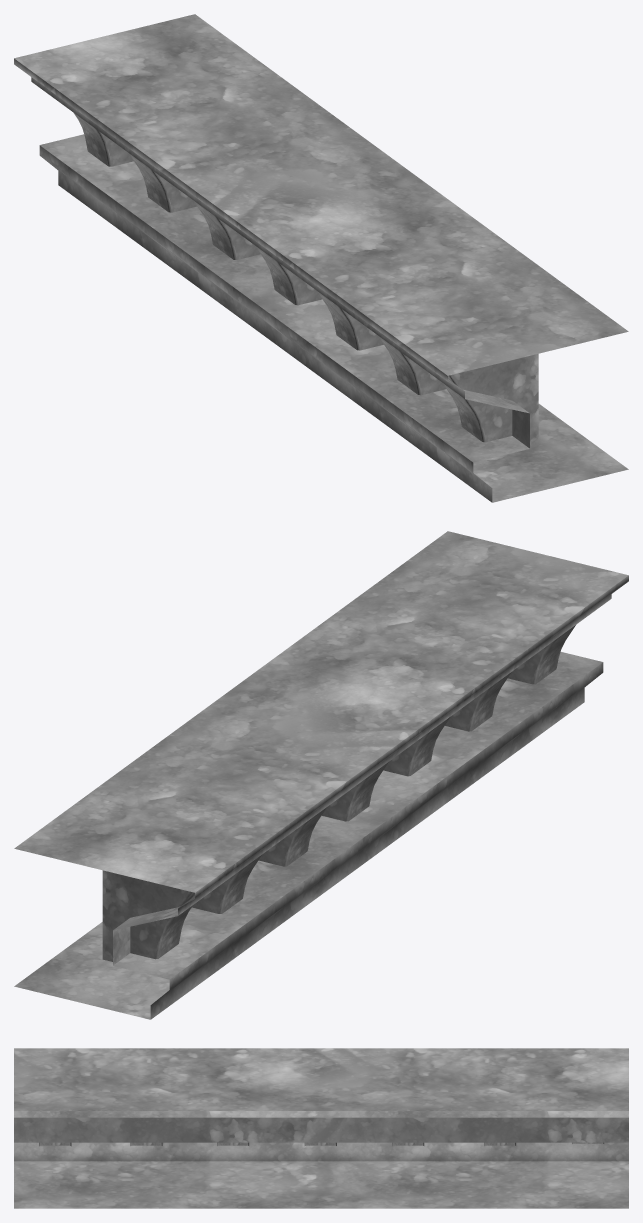
Rendered from SM_WallTrim_01a.fbx.
3 renders of one model, top to bottom at view 1: azimuth 30°, elevation 25°; view 2: azimuth 150°, elevation 25°; view 3: azimuth 270°, elevation 25°, orthographic. The views are drawn at different scales.
Parts seen in each view (by area): view 1: SM_WallTrim_01a_LOD0; view 2: SM_WallTrim_01a_LOD0; view 3: SM_WallTrim_01a_LOD0.
Part boxes in pixels (x1,y1,x2,y2): SM_WallTrim_01a_LOD0: (14, 14, 628, 502); SM_WallTrim_01a_LOD0: (14, 531, 628, 1019); SM_WallTrim_01a_LOD0: (14, 1048, 628, 1208).
Bounding box in the file's own units: 72.33 × 300 × 52.59.
